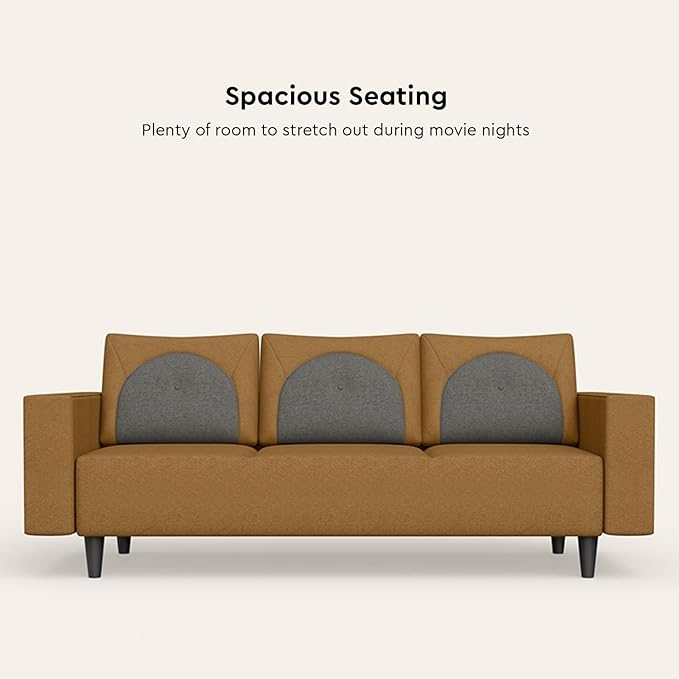3seatersofa: (25, 333, 652, 577)
backrest: (100, 334, 576, 445)
leftarmrest: (578, 393, 654, 534)
leg: (85, 537, 104, 577), (579, 536, 597, 577), (551, 536, 564, 553), (117, 536, 129, 553)
rightarmrest: (24, 392, 100, 534)
seat: (75, 445, 603, 535)
